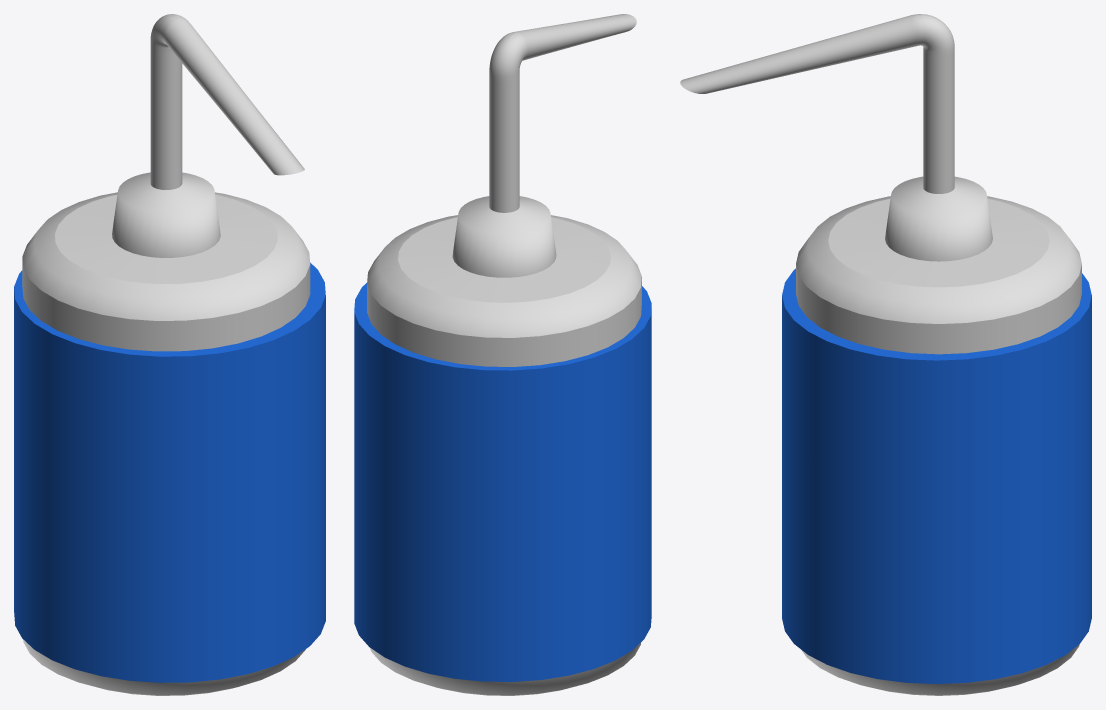
Rendered from Piseta.fbx.
3 views of the same model, side by side, from view 1: azimuth 30°, elevation 25°; view 2: azimuth 150°, elevation 25°; view 3: azimuth 270°, elevation 25° (orthographic). The views are drawn at different scales.
Parts seen in each view (by area): view 1: Cylinder.001, Cylinder; view 2: Cylinder.001, Cylinder; view 3: Cylinder.001, Cylinder.
Boxes of the visible parts, left/top/right/bottom form: Cylinder.001: left=14, top=262, right=325, bottom=682; Cylinder: left=22, top=14, right=310, bottom=695; Cylinder.001: left=354, top=283, right=651, bottom=681; Cylinder: left=367, top=14, right=641, bottom=695; Cylinder.001: left=782, top=268, right=1091, bottom=683; Cylinder: left=680, top=14, right=1081, bottom=695.
Bounding box in the file's own units: 240 × 535 × 319.
